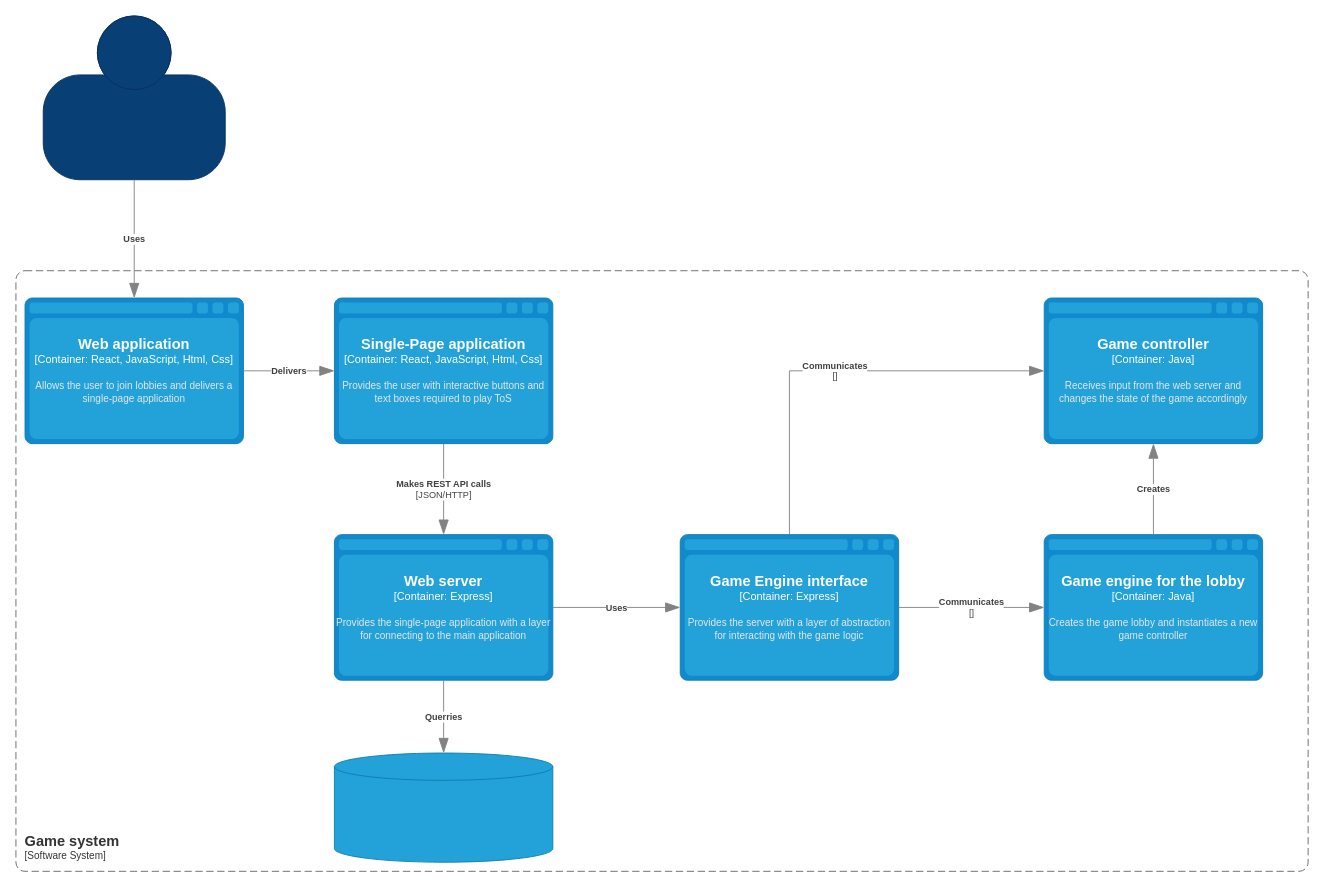
This 1324x887 diagram has some shape labels left out. The centre of each missing label's shape, as x and y in pixels:
"Database [Container: MySQL] Stores all the user and game related information" goes at (443,807).
"User [Person] A person who wants to play ToS" goes at (133,97).
